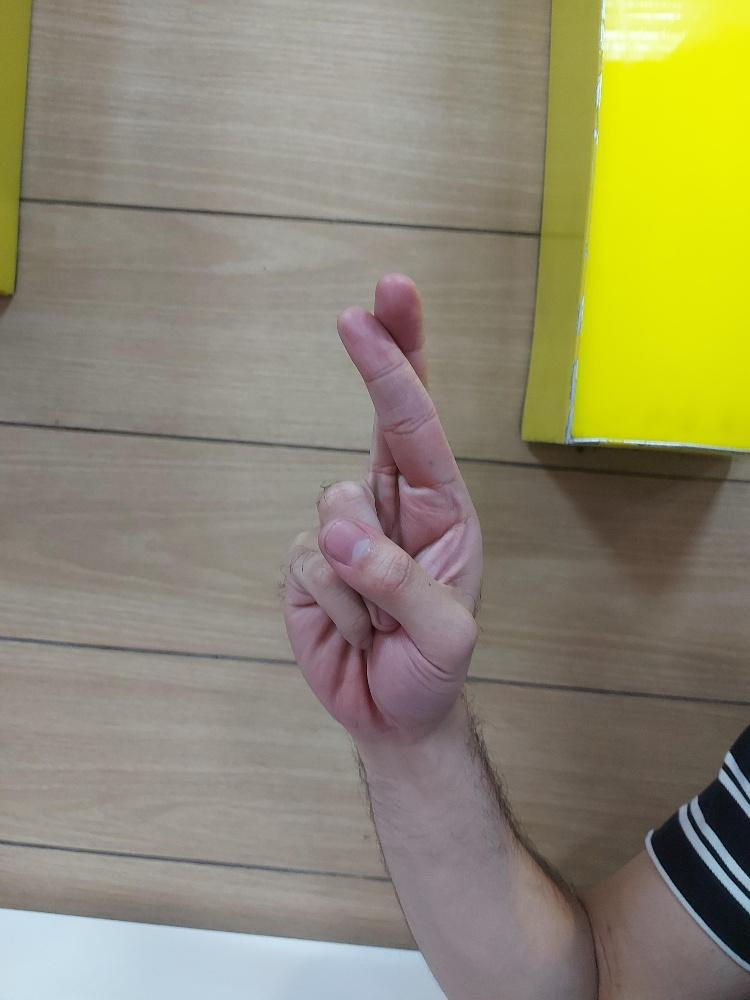r: (278, 267, 487, 736)
